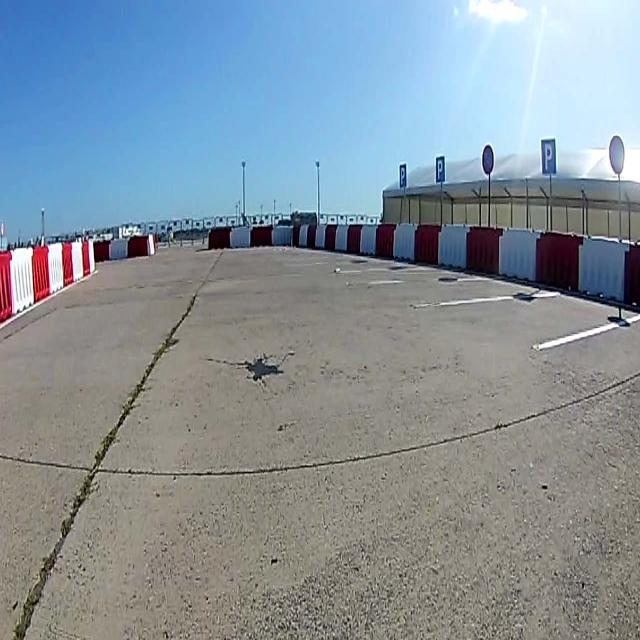park: (541, 137, 556, 175), (435, 156, 445, 184), (399, 163, 406, 188)
parkyasak: (609, 136, 623, 175), (481, 144, 494, 176)
